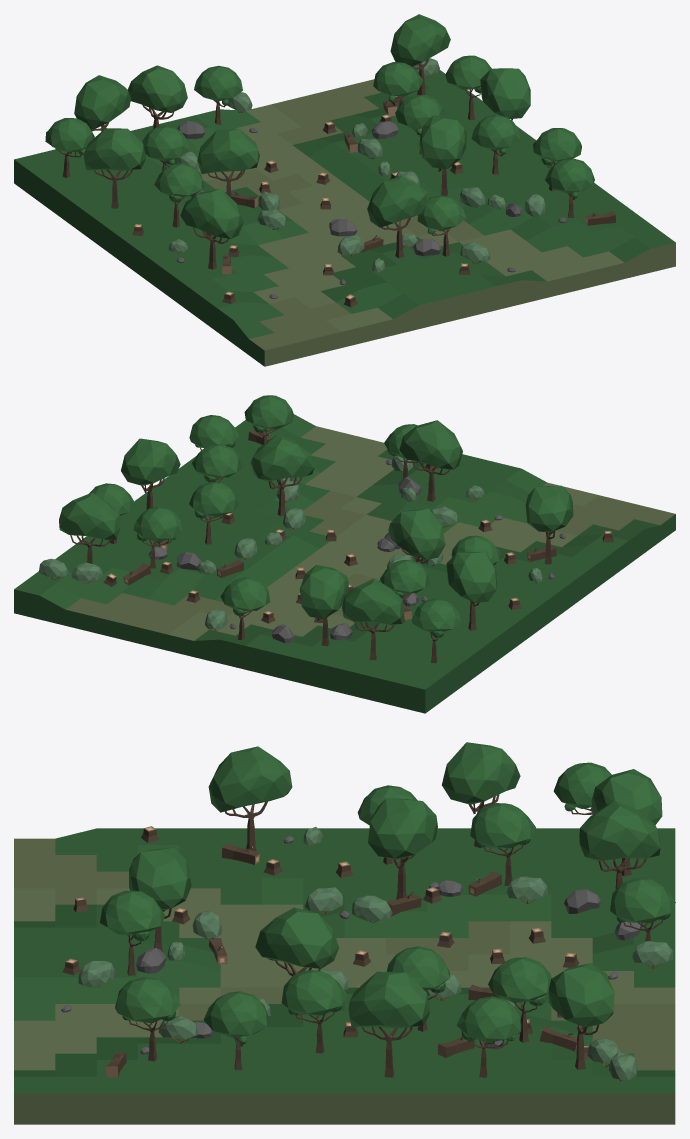
The model's file is fase_amazonia.fbx.
The picture shows the model from 3 angles, top to bottom: view 1: azimuth 30°, elevation 25°; view 2: azimuth 150°, elevation 25°; view 3: azimuth 270°, elevation 25°; orthographic projection. The views are drawn at different scales.
Visible parts, largest first — view 1: Amazonia Terreno, Amazonia Folhagem 1.005, Amazonia Folhagem 1.003, Amazonia Folhagem 1.002, Amazonia Folhagem 1.008, Amazonia Folhagem 1.007, Amazonia Folhagem 1.009, Amazonia Folhagem 1.001, Amazonia Folhagem 1.004, Amazonia Folhagem 1.006, Amazonia Folhagem 2.003, Amazonia Folhagem 2.002 (+9 smaller); view 2: Amazonia Terreno, Amazonia Folhagem 1.002, Amazonia Folhagem 1.009, Amazonia Folhagem 1.007, Amazonia Folhagem 1.003, Amazonia Folhagem 1.006, Amazonia Folhagem 1.008, Amazonia Folhagem 1.001, Amazonia Folhagem 1.004, Amazonia Folhagem 1.005, Amazonia Folhagem 2.006, Amazonia Folhagem 2.007 (+10 smaller); view 3: Amazonia Terreno, Amazonia Folhagem 1.005, Amazonia Folhagem 1.001, Amazonia Folhagem 1.004, Amazonia Folhagem 1.006, Amazonia Folhagem 1.008, Amazonia Folhagem 1.003, Amazonia Folhagem 1.007, Amazonia Folhagem 1.002, Amazonia Folhagem 2.009, Amazonia Folhagem 2.011, Amazonia Folhagem 2.010 (+21 smaller).
Part boxes in pixels (<box>): Amazonia Terreno: <box>14,69,675,366</box>; Amazonia Folhagem 1.005: <box>180,188,243,238</box>; Amazonia Folhagem 1.003: <box>197,128,259,173</box>; Amazonia Folhagem 1.002: <box>367,175,429,227</box>; Amazonia Folhagem 1.008: <box>84,128,145,170</box>; Amazonia Folhagem 1.007: <box>390,14,450,66</box>; Amazonia Folhagem 1.009: <box>74,75,130,129</box>; Amazonia Folhagem 1.001: <box>480,68,530,118</box>; Amazonia Folhagem 1.004: <box>127,65,187,112</box>; Amazonia Folhagem 1.006: <box>419,115,466,168</box>; Amazonia Folhagem 2.003: <box>373,62,423,101</box>; Amazonia Folhagem 2.002: <box>154,163,204,202</box>; Amazonia Terreno: <box>14,414,675,713</box>; Amazonia Folhagem 1.002: <box>399,420,462,469</box>; Amazonia Folhagem 1.009: <box>342,578,404,624</box>; Amazonia Folhagem 1.007: <box>59,492,120,539</box>; Amazonia Folhagem 1.003: <box>388,508,445,559</box>; Amazonia Folhagem 1.006: <box>250,435,314,481</box>; Amazonia Folhagem 1.008: <box>446,551,496,602</box>; Amazonia Folhagem 1.001: <box>121,438,180,485</box>; Amazonia Folhagem 1.004: <box>300,565,348,618</box>; Amazonia Folhagem 1.005: <box>525,485,573,532</box>; Amazonia Folhagem 2.006: <box>244,395,293,433</box>; Amazonia Folhagem 2.007: <box>189,482,239,518</box>; Amazonia Terreno: <box>14,828,675,1124</box>; Amazonia Folhagem 1.005: <box>208,746,292,812</box>; Amazonia Folhagem 1.001: <box>348,971,429,1027</box>; Amazonia Folhagem 1.004: <box>579,800,660,861</box>; Amazonia Folhagem 1.006: <box>255,907,339,968</box>; Amazonia Folhagem 1.008: <box>442,742,520,804</box>; Amazonia Folhagem 1.003: <box>368,798,437,859</box>; Amazonia Folhagem 1.007: <box>548,963,614,1026</box>; Amazonia Folhagem 1.002: <box>129,847,191,909</box>; Amazonia Folhagem 2.009: <box>100,890,165,941</box>; Amazonia Folhagem 2.011: <box>203,991,269,1044</box>; Amazonia Folhagem 2.010: <box>456,996,521,1042</box>.
Bounding box in the file's own units: 3601 × 838 × 3803.
